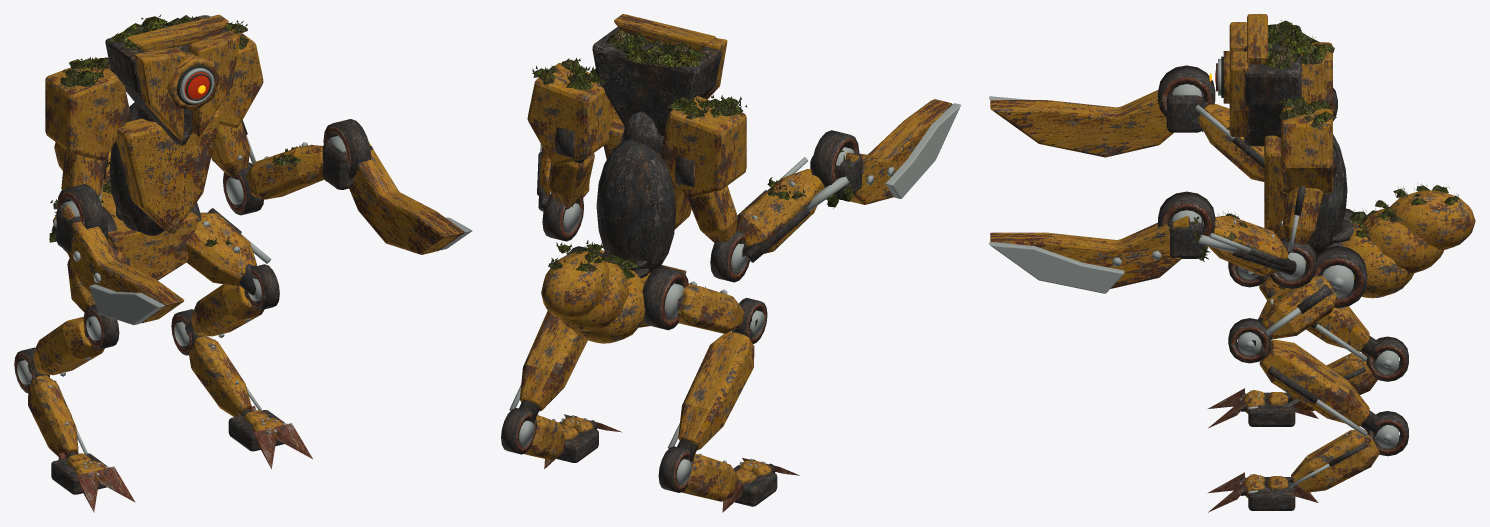
Rendered from assault-mantis.glb.
3 renders of one model, left to right at view 1: azimuth 30°, elevation 25°; view 2: azimuth 150°, elevation 25°; view 3: azimuth 270°, elevation 25°, orthographic. The views are drawn at different scales.
Parts seen in each view (by area): view 1: Head_Mesh, Thorax_Mesh, Blade_hand_1_Mesh, Mantis_shoulder_-1_Mesh, Blade_hand_-1_Mesh, Mantis_forearm_1_Mesh, Mantis_shoulder_1_Mesh, mantis_leg_1_segment_0_Mesh, mantis_leg_-1_segment_1_Mesh, mantis_leg_1_segment_2_Mesh, mantis_leg_1_segment_1_Mesh, mantis_leg_-1_segment_2_Mesh (+5 smaller); view 2: Head_Mesh, Thorax_Mesh, Mantis_shoulder_-1_Mesh, Mantis_shoulder_1_Mesh, Blade_hand_-1_Mesh, Abdomen_Mesh, mantis_leg_-1_segment_1_Mesh, Mantis_forearm_-1_Mesh, mantis_leg_-1_segment_0_Mesh, mantis_leg_1_segment_1_Mesh, mantis_leg_-1_segment_2_Mesh, mantis_leg_1_segment_2_Mesh (+3 smaller); view 3: Blade_hand_1_Mesh, Blade_hand_-1_Mesh, Abdomen_Mesh, Head_Mesh, Mantis_shoulder_1_Mesh, mantis_leg_1_segment_1_Mesh, mantis_leg_1_segment_0_Mesh, Mantis_forearm_1_Mesh, mantis_leg_1_segment_2_Mesh, Thorax_Mesh, mantis_leg_-1_segment_1_Mesh, mantis_leg_-1_segment_2_Mesh (+4 smaller).
Boxes of the visible parts, x1,y1,x2,y2 form: Head_Mesh: (105,14,239,145); Thorax_Mesh: (109,102,220,235); Blade_hand_1_Mesh: (322,119,472,254); Mantis_shoulder_-1_Mesh: (45,57,130,200); Blade_hand_-1_Mesh: (49,184,184,325); Mantis_forearm_1_Mesh: (223,142,324,215); Mantis_shoulder_1_Mesh: (211,20,263,179); mantis_leg_1_segment_0_Mesh: (186,202,270,295); mantis_leg_-1_segment_1_Mesh: (27,305,119,376); mantis_leg_1_segment_2_Mesh: (171,309,261,416); mantis_leg_1_segment_1_Mesh: (185,264,279,337); mantis_leg_-1_segment_2_Mesh: (14,347,87,456); Head_Mesh: (592,14,727,159); Thorax_Mesh: (596,118,691,278); Mantis_shoulder_-1_Mesh: (661,94,746,242); Mantis_shoulder_1_Mesh: (527,57,612,209); Blade_hand_-1_Mesh: (810,99,960,208); Abdomen_Mesh: (541,240,645,343); mantis_leg_-1_segment_1_Mesh: (667,298,767,462); Mantis_forearm_-1_Mesh: (710,157,849,282); mantis_leg_-1_segment_0_Mesh: (642,266,757,333); mantis_leg_1_segment_1_Mesh: (509,310,587,423); mantis_leg_-1_segment_2_Mesh: (658,446,739,501); mantis_leg_1_segment_2_Mesh: (501,408,565,460); Blade_hand_1_Mesh: (989,191,1215,293); Blade_hand_-1_Mesh: (989,65,1215,157); Abdomen_Mesh: (1340,183,1475,298); Head_Mesh: (1209,14,1316,146); Mantis_shoulder_1_Mesh: (1277,96,1337,252); mantis_leg_1_segment_1_Mesh: (1228,318,1385,436); mantis_leg_1_segment_0_Mesh: (1251,246,1367,345); Mantis_forearm_1_Mesh: (1198,211,1316,288); mantis_leg_1_segment_2_Mesh: (1288,411,1408,492); Thorax_Mesh: (1264,134,1353,253); mantis_leg_-1_segment_1_Mesh: (1228,262,1385,361); mantis_leg_-1_segment_2_Mesh: (1286,336,1408,411).
Size of the model in its own units: 1.85 by 2.48 by 2.54.
Materials: 8 (4 with a texture image).
